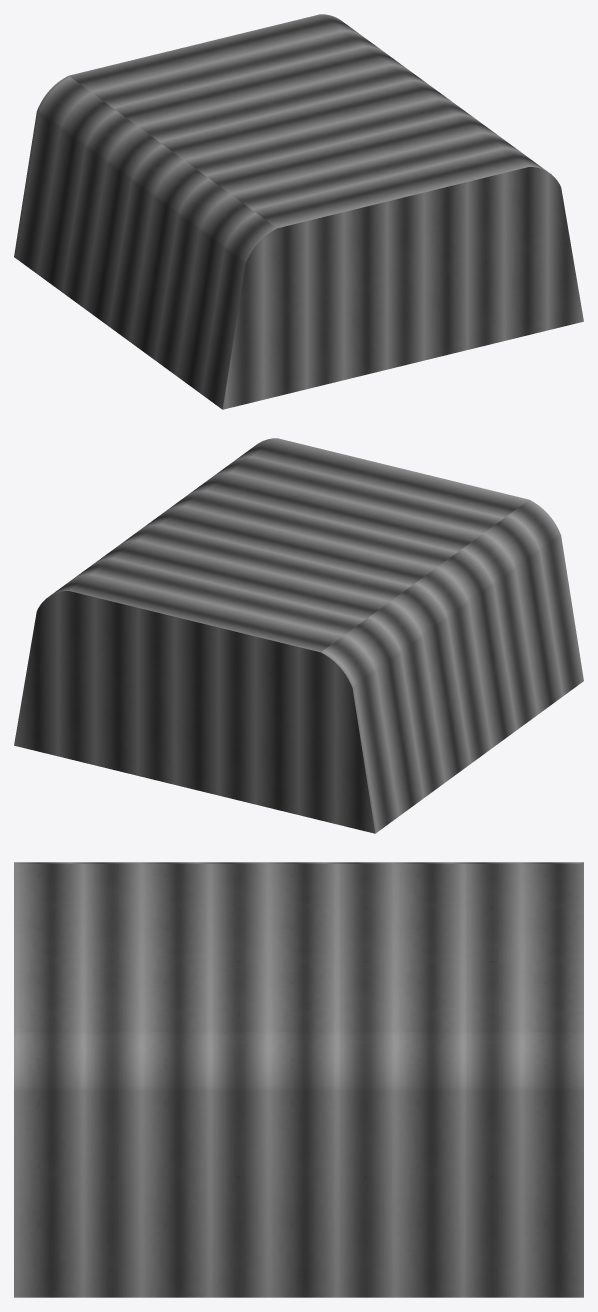
Rendered from original-100.obj.
3 views of the same model, one above another, from view 1: azimuth 30°, elevation 25°; view 2: azimuth 150°, elevation 25°; view 3: azimuth 270°, elevation 25° (orthographic). The views are drawn at different scales.
Visible parts, largest first — view 1: Group_1_72/Group_1/mesh1/mesh1-geometry#mesh1-geometry; view 2: Group_1_72/Group_1/mesh1/mesh1-geometry#mesh1-geometry; view 3: Group_1_72/Group_1/mesh1/mesh1-geometry#mesh1-geometry.
Boxes of the visible parts, bbox=[...] form: Group_1_72/Group_1/mesh1/mesh1-geometry#mesh1-geometry: bbox=[14, 14, 583, 409]; Group_1_72/Group_1/mesh1/mesh1-geometry#mesh1-geometry: bbox=[14, 438, 583, 833]; Group_1_72/Group_1/mesh1/mesh1-geometry#mesh1-geometry: bbox=[14, 862, 583, 1297].
Size of the model in its own units: 0.0524 by 0.0233 by 0.0524.
